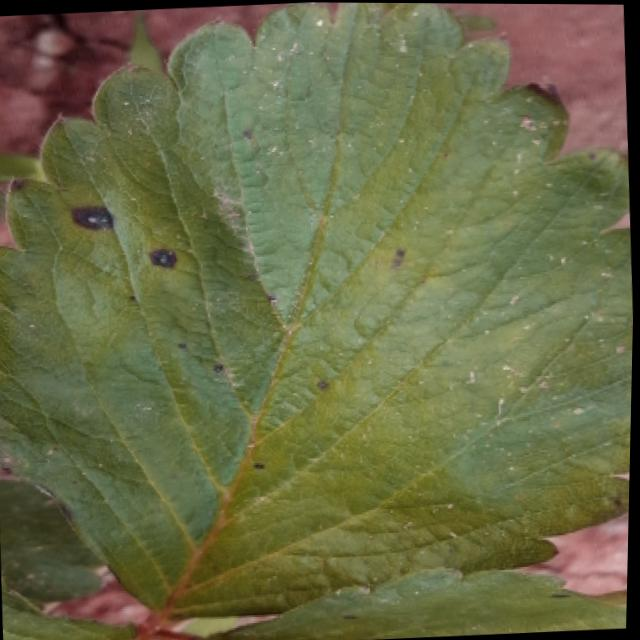Leaf Spot: (0, 2, 635, 622), (175, 567, 630, 640)
